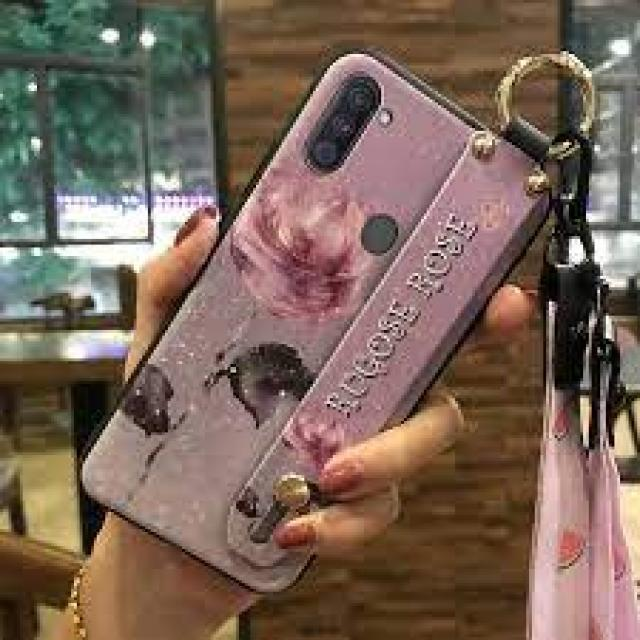lens: (298, 72, 389, 179)
phone: (78, 47, 553, 592)
